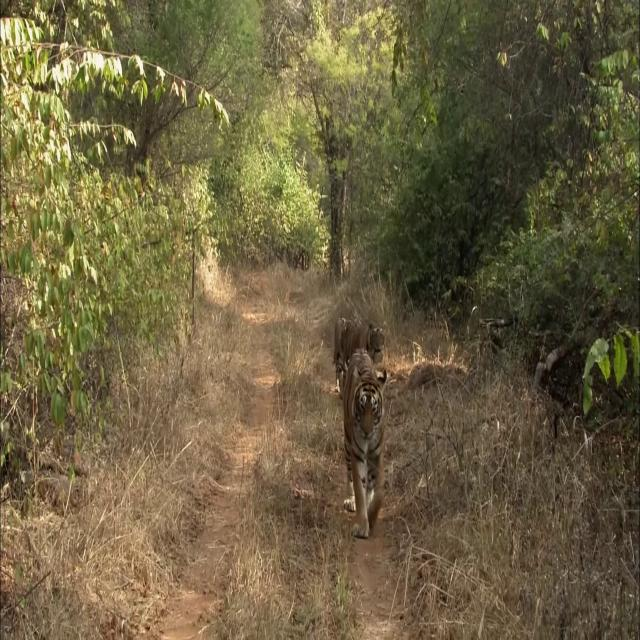tiger: (343, 346, 387, 539)
